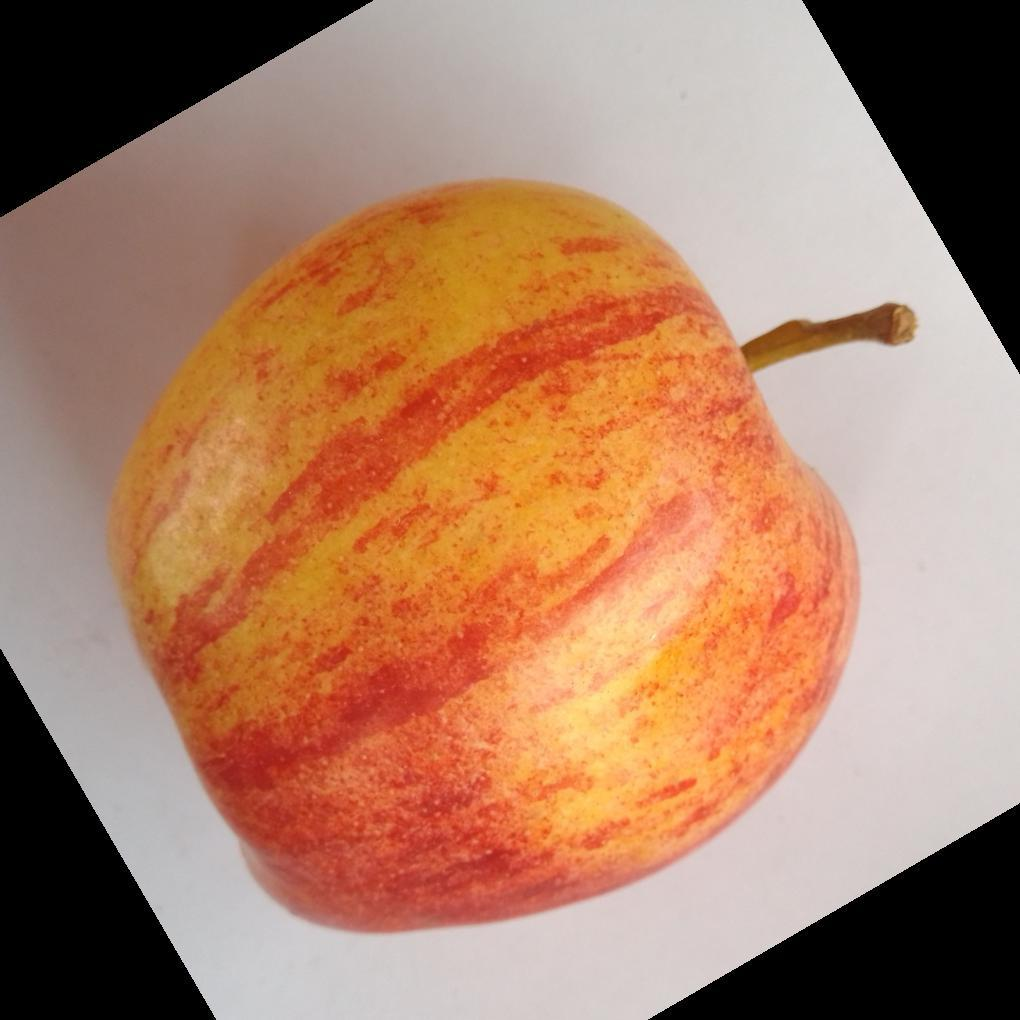FreshGuava: (103, 178, 860, 940)
